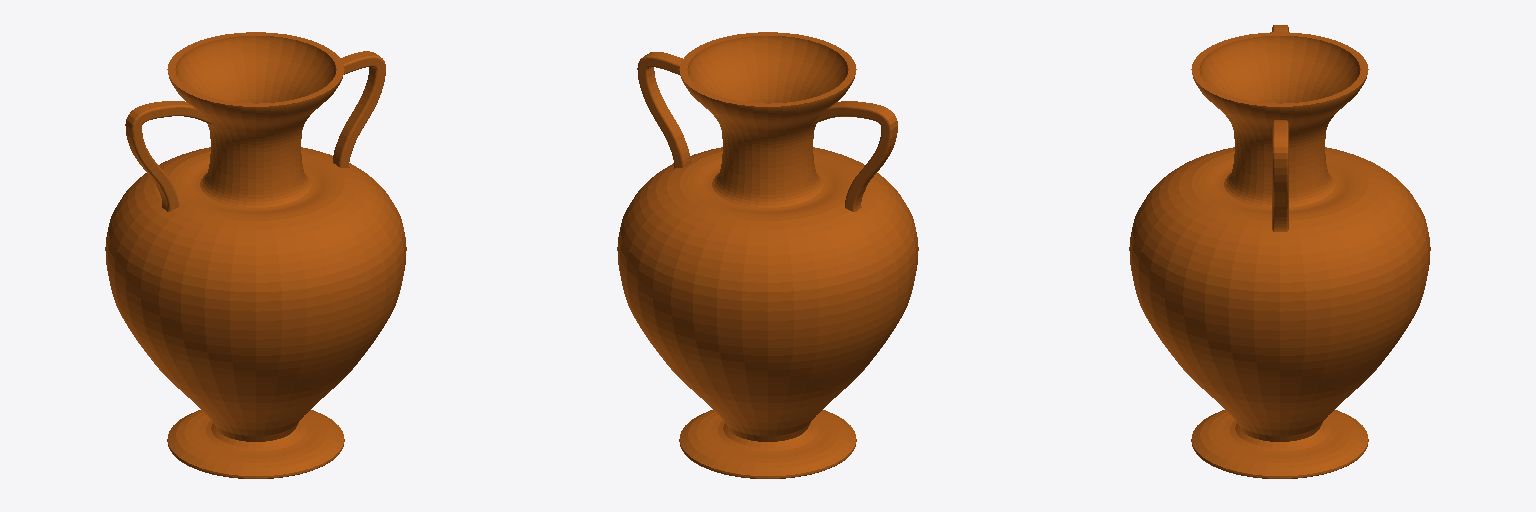
File: amphora_back.obj
The picture shows the model from 3 angles: view 1: azimuth 30°, elevation 25°; view 2: azimuth 150°, elevation 25°; view 3: azimuth 270°, elevation 25°; orthographic projection.
Size of the model in its own units: 190620 by 260387 by 190620.